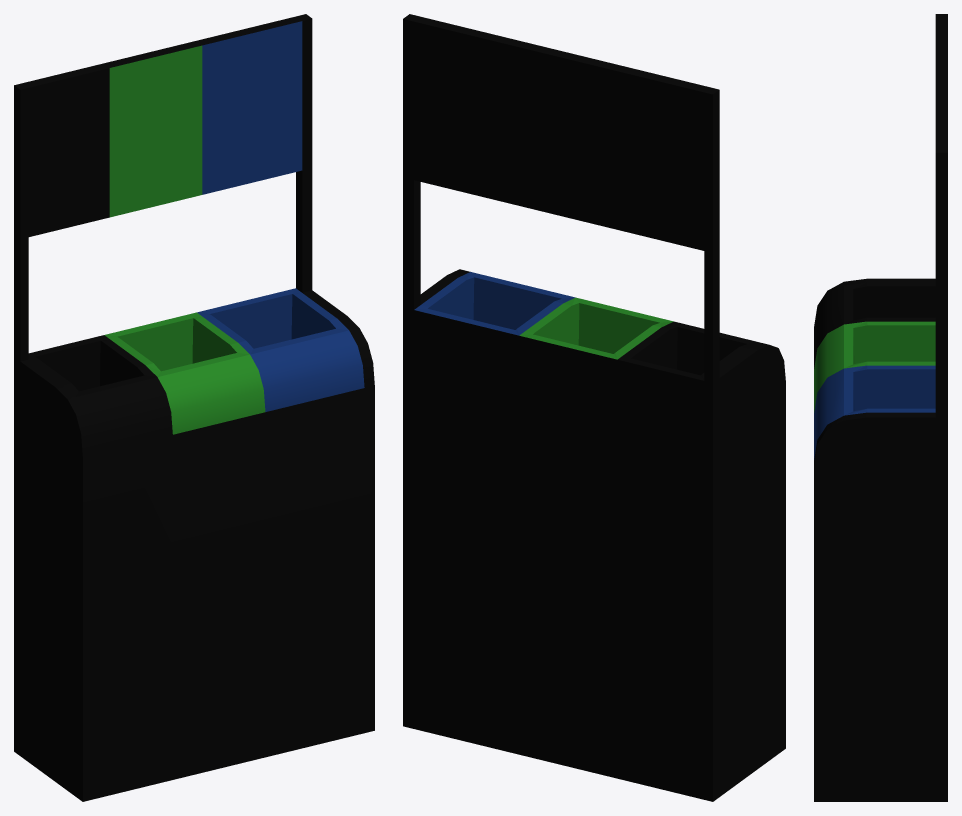
The model's file is Bin.FBX.
3 views of the same model, side by side, from view 1: azimuth 30°, elevation 25°; view 2: azimuth 150°, elevation 25°; view 3: azimuth 270°, elevation 25° (orthographic). The views are drawn at different scales.
Parts seen in each view (by area): view 1: Box001; view 2: Box001; view 3: Box001.
Boxes of the visible parts, x1=… form: Box001: x1=14, y1=14, x2=374, y2=801; Box001: x1=403, y1=14, x2=785, y2=801; Box001: x1=814, y1=14, x2=947, y2=801.
Bounding box in the file's own units: 56.11 × 122 × 22.87.
